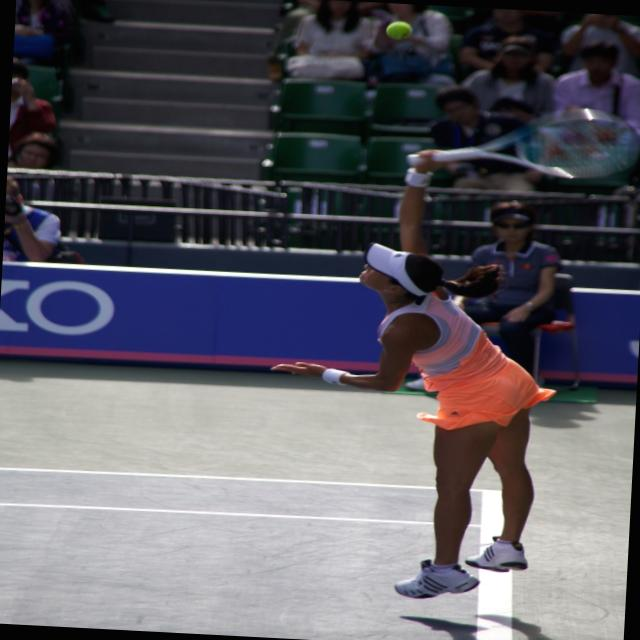Tennis Ball: (385, 20, 412, 42)
